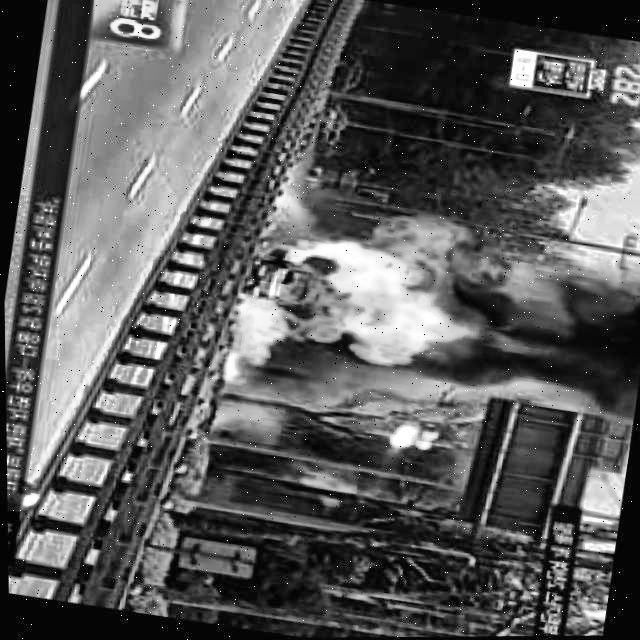Fire: (282, 190, 522, 381), (210, 282, 304, 399)
Smoke: (488, 250, 640, 419)
